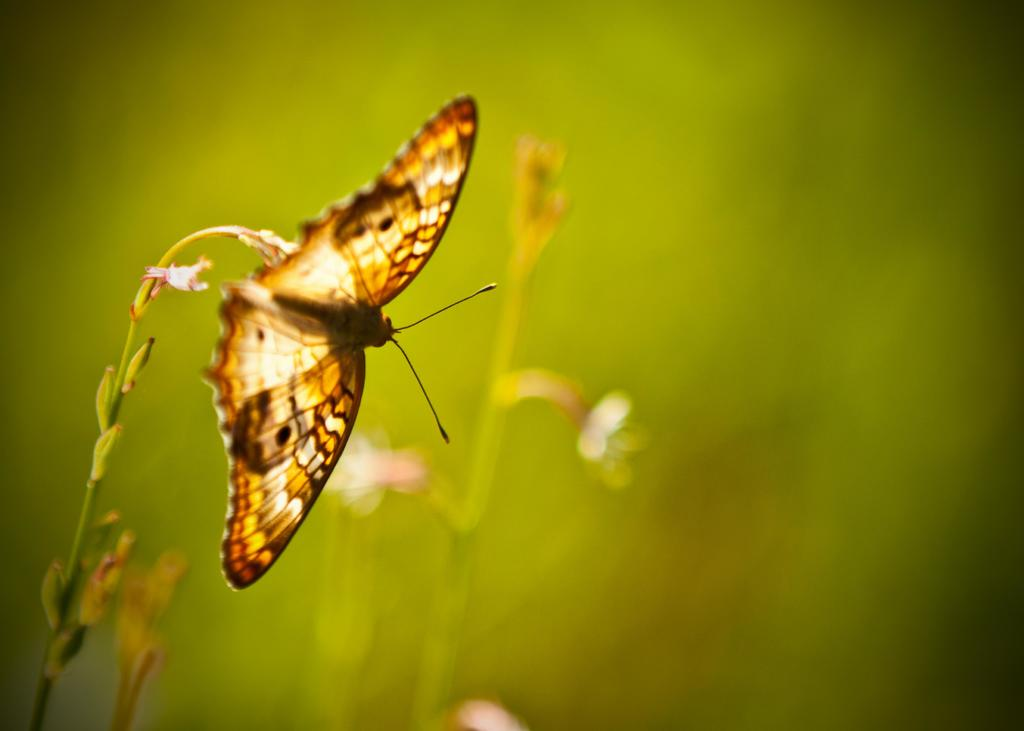Butterfly: (222, 94, 511, 597)
